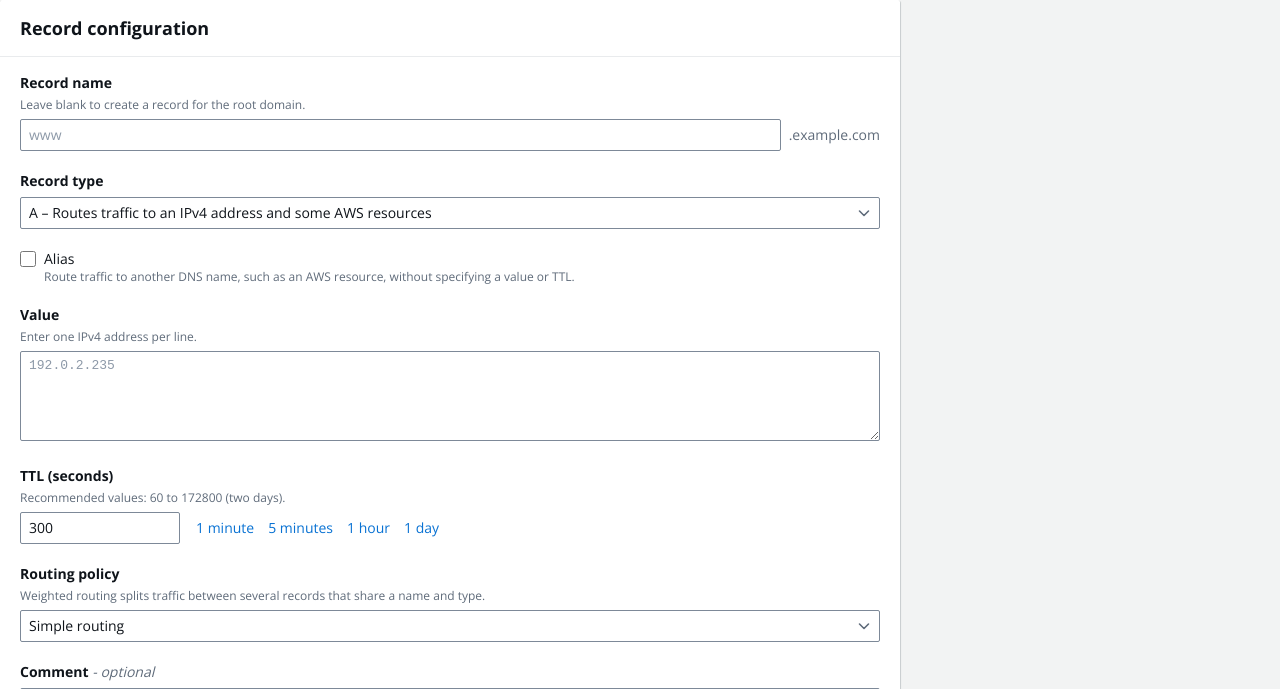
Scenario: <RecordForm> dynamic fields › swaps the value inputs when the record type changes
This screenshot has width=1280, height=689.
Step 1. Select "MX – Routes traffic to mail servers" in the dropdown labelled "Record type" → point(450, 213), box [20,197,880,229]
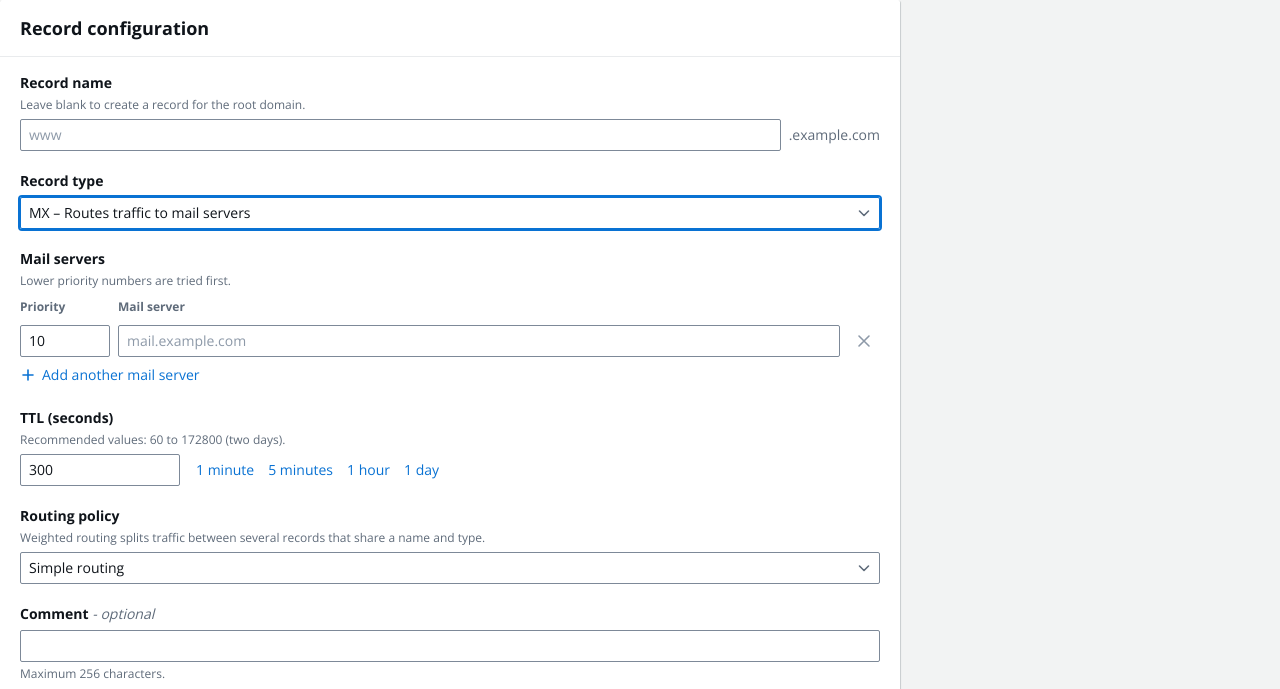
Check: the field named "Priority, row 1" is shown, box [20,325,110,357]
Check: the field named "Mail server, row 1" is shown, box [118,325,840,357]
Step 2. Select "SRV – Specifies the host and port of a service, such as SIP" in the dropdown labelled "Record type" → point(450, 213), box [20,197,880,229]
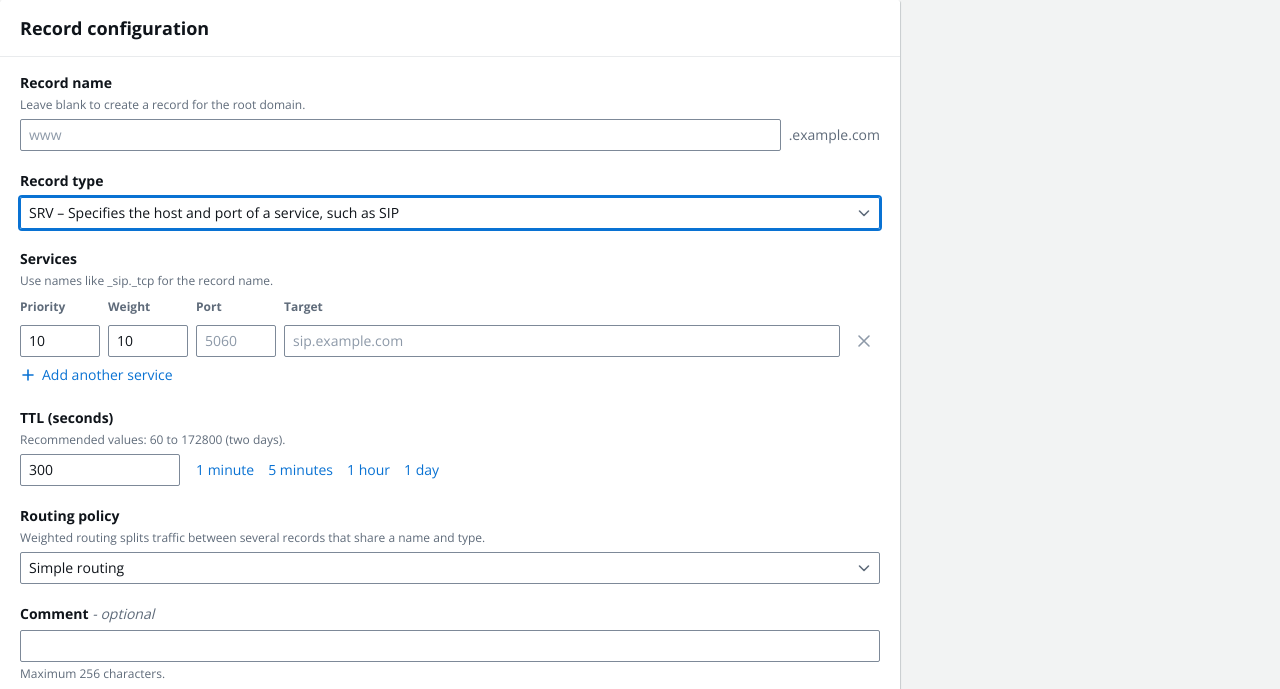
Check: the field named "Priority, row 1" is shown, box [20,325,100,357]
Check: the field named "Weight, row 1" is shown, box [108,325,188,357]
Check: the field named "Port, row 1" is shown, box [196,325,276,357]
Step 3. Select "CAA – Restricts which certificate authorities may issue certificates" in the dropdown labelled "Record type" → point(450, 213), box [20,197,880,229]
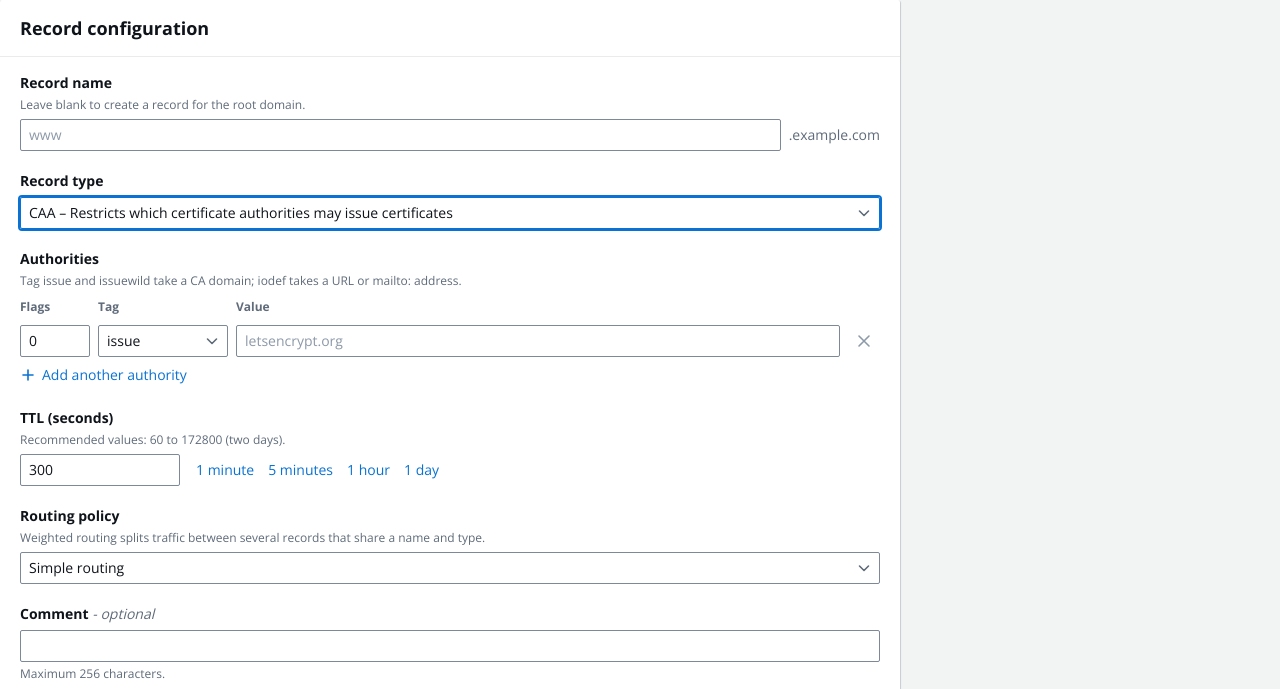
Check: the field named "Flags, row 1" is shown, box [20,325,90,357]
